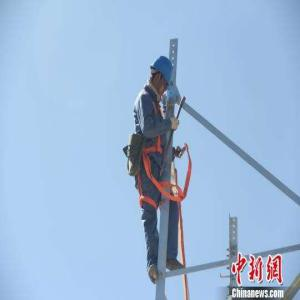blue: (150, 56, 175, 98)
